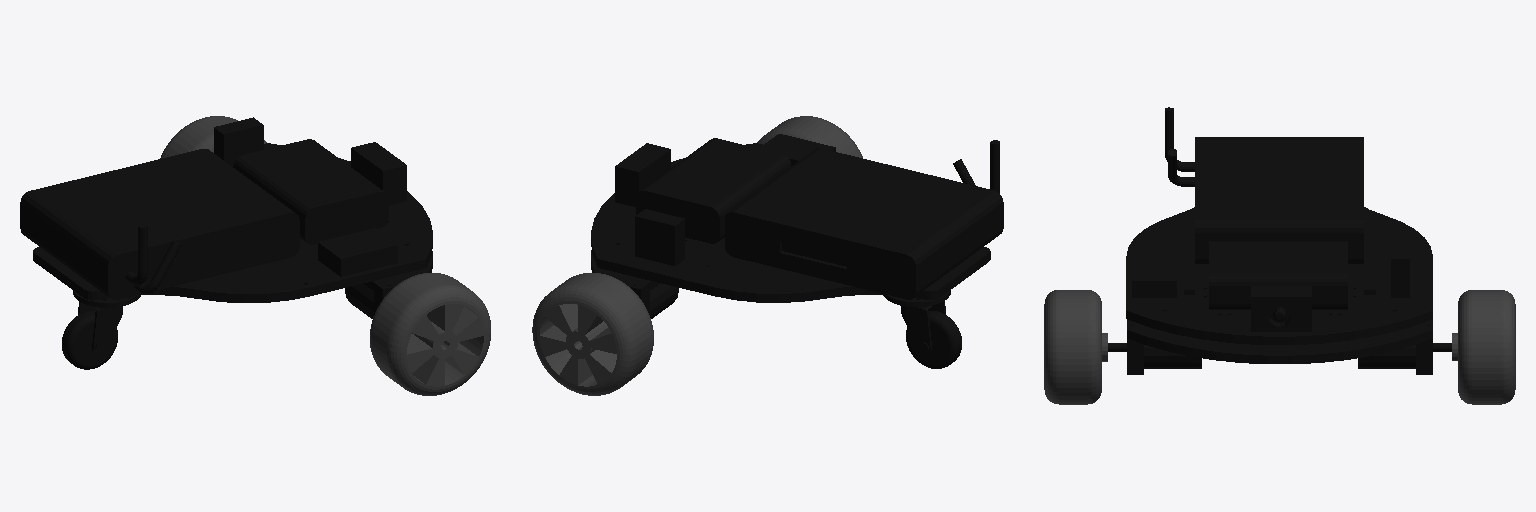
URDF robot description (xiaoqiang_udrf):
<robot
  name="xiaoqiang_udrf">
  <link
    name="base_link">
    <inertial>
      <origin
        xyz="-0.1098 -0.0015527 0.0081894"
        rpy="0 0 0" />
      <mass
        value="4.3093" />
      <inertia
        ixx="0.024068"
        ixy="0.00014219"
        ixz="-0.0052989"
        iyy="0.052449"
        iyz="-1.328E-05"
        izz="0.070783" />
    </inertial>
    <visual>
      <origin
        xyz="0 0 0"
        rpy="0 0 0" />
      <geometry>
        <mesh
          filename="package://xiaoqiang_udrf/meshes/base_link.STL" />
      </geometry>
      <material
        name="">
        <color
          rgba="0.098039 0.098039 0.098039 1" />
      </material>
    </visual>
    <collision>
      <origin
        xyz="0 0 0"
        rpy="0 0 0" />
      <geometry>
        <mesh
          filename="package://xiaoqiang_udrf/meshes/base_link.STL" />
      </geometry>
    </collision>
  </link>
  <link
    name="right_wheel">
    <inertial>
      <origin
        xyz="1.2074E-15 5.2042E-16 0.040256"
        rpy="0 0 0" />
      <mass
        value="0.4651" />
      <inertia
        ixx="0.00057862"
        ixy="-9.5729E-21"
        ixz="-1.1736E-18"
        iyy="0.00057862"
        iyz="3.9119E-21"
        izz="0.00090953" />
    </inertial>
    <visual>
      <origin
        xyz="0 0 0"
        rpy="0 0 0" />
      <geometry>
        <mesh
          filename="package://xiaoqiang_udrf/meshes/right_wheel.STL" />
      </geometry>
      <material
        name="">
        <color
          rgba="0.29412 0.29412 0.29412 1" />
      </material>
    </visual>
    <collision>
      <origin
        xyz="0 0 0"
        rpy="0 0 0" />
      <geometry>
        <mesh
          filename="package://xiaoqiang_udrf/meshes/right_wheel.STL" />
      </geometry>
    </collision>
  </link>
  <joint
    name="rot1"
    type="continuous">
    <origin
      xyz="0 -0.176 -0.05489"
      rpy="1.5708 0 0" />
    <parent
      link="base_link" />
    <child
      link="right_wheel" />
    <axis
      xyz="0 0 -1" />
  </joint>
  <link
    name="left_wheel">
    <inertial>
      <origin
        xyz="2.2482E-15 -1.7625E-15 -0.040256"
        rpy="0 0 0" />
      <mass
        value="0.4651" />
      <inertia
        ixx="0.00057862"
        ixy="-6.9556E-21"
        ixz="3.436E-18"
        iyy="0.00057862"
        iyz="4.1026E-21"
        izz="0.00090953" />
    </inertial>
    <visual>
      <origin
        xyz="0 0 0"
        rpy="0 0 0" />
      <geometry>
        <mesh
          filename="package://xiaoqiang_udrf/meshes/left_wheel.STL" />
      </geometry>
      <material
        name="">
        <color
          rgba="0.29412 0.29412 0.29412 1" />
      </material>
    </visual>
    <collision>
      <origin
        xyz="0 0 0"
        rpy="0 0 0" />
      <geometry>
        <mesh
          filename="package://xiaoqiang_udrf/meshes/left_wheel.STL" />
      </geometry>
    </collision>
  </link>
  <joint
    name="rot2"
    type="continuous">
    <origin
      xyz="0 0.176 -0.05489"
      rpy="-1.5708 0 3.1416" />
    <parent
      link="base_link" />
    <child
      link="left_wheel" />
    <axis
      xyz="0 0 -1" />
  </joint>
  <link
    name="back_wheel">
    <inertial>
      <origin
        xyz="-0.016124 -0.038361 -1.58E-09"
        rpy="0 0 0" />
      <mass
        value="0.070437" />
      <inertia
        ixx="3.8166E-05"
        ixy="9.5646E-06"
        ixz="-2.9588E-12"
        iyy="2.3031E-05"
        iyz="-3.2194E-12"
        izz="5.0491E-05" />
    </inertial>
    <visual>
      <origin
        xyz="0 0 0"
        rpy="0 0 0" />
      <geometry>
        <mesh
          filename="package://xiaoqiang_udrf/meshes/back_wheel.STL" />
      </geometry>
      <material
        name="">
        <color
          rgba="0.098039 0.098039 0.098039 1" />
      </material>
    </visual>
    <collision>
      <origin
        xyz="0 0 0"
        rpy="0 0 0" />
      <geometry>
        <mesh
          filename="package://xiaoqiang_udrf/meshes/back_wheel.STL" />
      </geometry>
    </collision>
  </link>
  <joint
    name="rot3"
    type="continuous">
    <origin
      xyz="-0.25204 -0.00060998 -0.037"
      rpy="1.5708 0 -5.9631E-17" />
    <parent
      link="base_link" />
    <child
      link="back_wheel" />
    <axis
      xyz="0 -1 0" />
  </joint>
</robot>

--- Render facts (derived) ---
The picture shows the robot from 3 angles, left to right: view 1: azimuth 30°, elevation 25°; view 2: azimuth 150°, elevation 25°; view 3: azimuth 270°, elevation 25°; orthographic projection.
Robot: xiaoqiang_udrf — 4 links, 3 joints (3 continuous); root link base_link; default pose: all joints at 0.
Links seen in each view (by area): view 1: base_link, right_wheel, back_wheel, left_wheel; view 2: base_link, left_wheel, back_wheel, right_wheel; view 3: base_link, right_wheel, left_wheel.
Boxes of the visible links, x1=… form: base_link: x1=20, y1=117, x2=432, y2=318; right_wheel: x1=370, y1=273, x2=490, y2=395; back_wheel: x1=62, y1=301, x2=128, y2=369; left_wheel: x1=160, y1=116, x2=266, y2=158; base_link: x1=591, y1=134, x2=1003, y2=318; left_wheel: x1=532, y1=273, x2=653, y2=395; back_wheel: x1=894, y1=301, x2=961, y2=368; right_wheel: x1=757, y1=116, x2=862, y2=157; base_link: x1=1108, y1=107, x2=1451, y2=374; right_wheel: x1=1044, y1=290, x2=1107, y2=404; left_wheel: x1=1452, y1=290, x2=1515, y2=404.
Bounding box of the posed robot: 0.3995 × 0.492 × 0.2048 m (x, y, z).
4 mesh visuals loaded from 4 distinct referenced files (4 binary STL).
